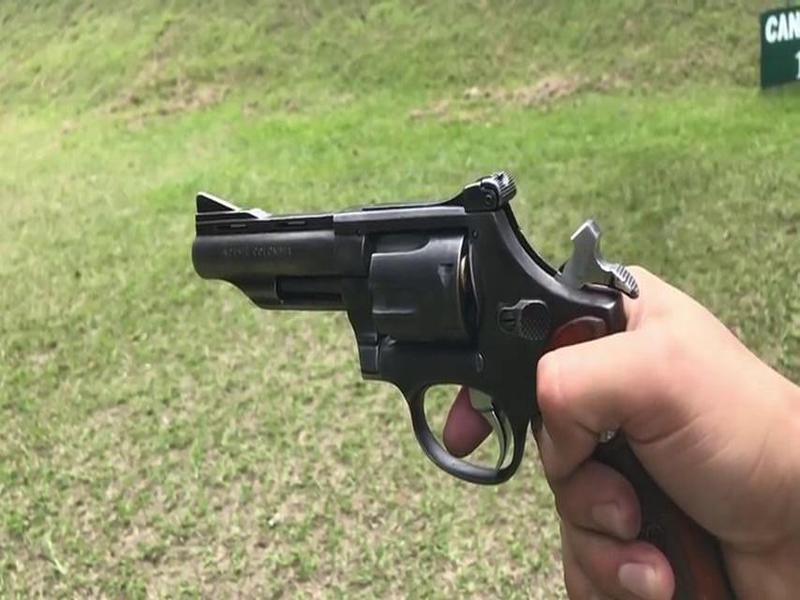Revolver: (185, 169, 662, 600)
